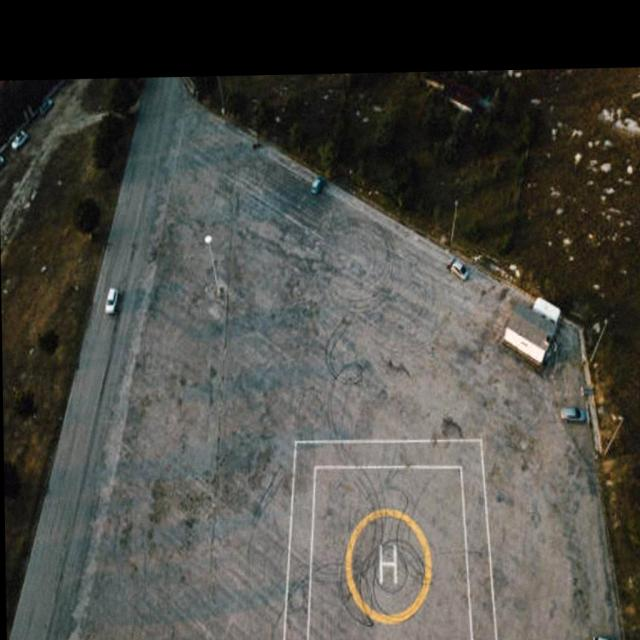helipad: (339, 503, 437, 628)
